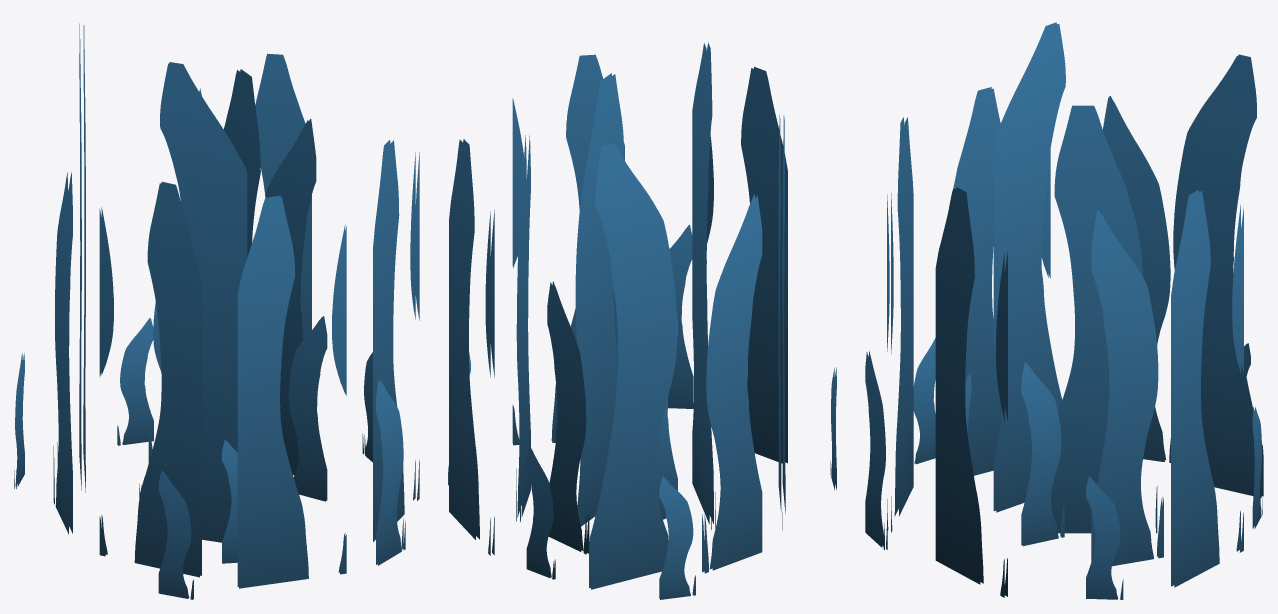
File: GrassBlades.fbx
3 views of the same model, side by side, from view 1: azimuth 30°, elevation 25°; view 2: azimuth 150°, elevation 25°; view 3: azimuth 270°, elevation 25° (orthographic).
Visible parts, largest first — view 1: Plane.014; view 2: Plane.014; view 3: Plane.014.
Boxes of the visible parts, x1,y1,x2,y2 form: Plane.014: (14, 23, 419, 599); Plane.014: (448, 42, 836, 599); Plane.014: (865, 22, 1263, 599).
Size of the model in its own units: 28.27 by 41.67 by 32.2.
